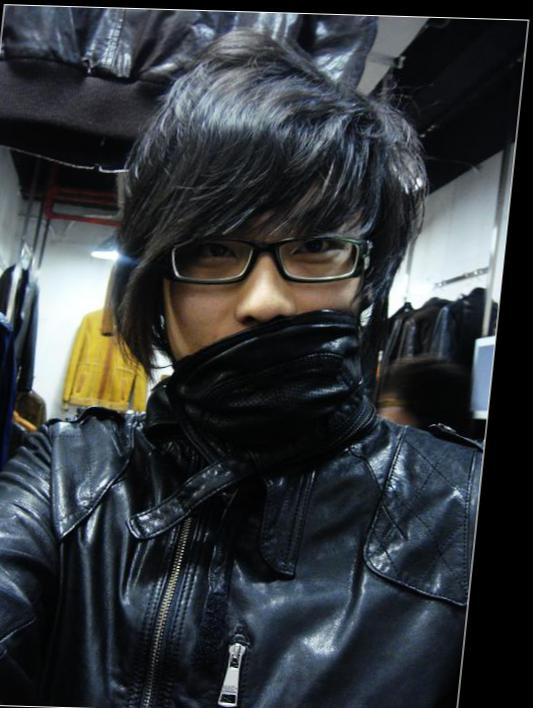WRONG: (166, 190, 389, 400)
